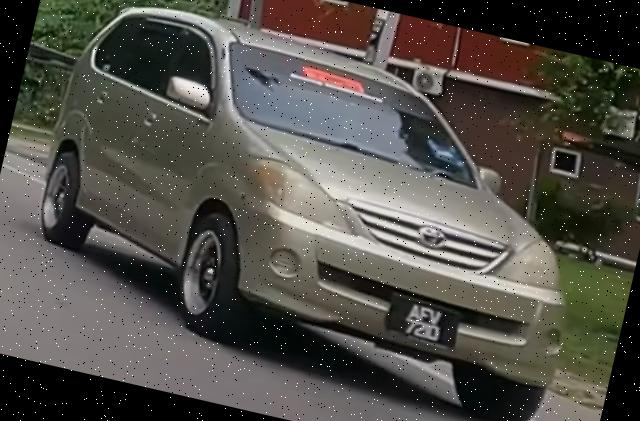License_Plate: (382, 289, 466, 351)
car: (8, 1, 618, 421)
